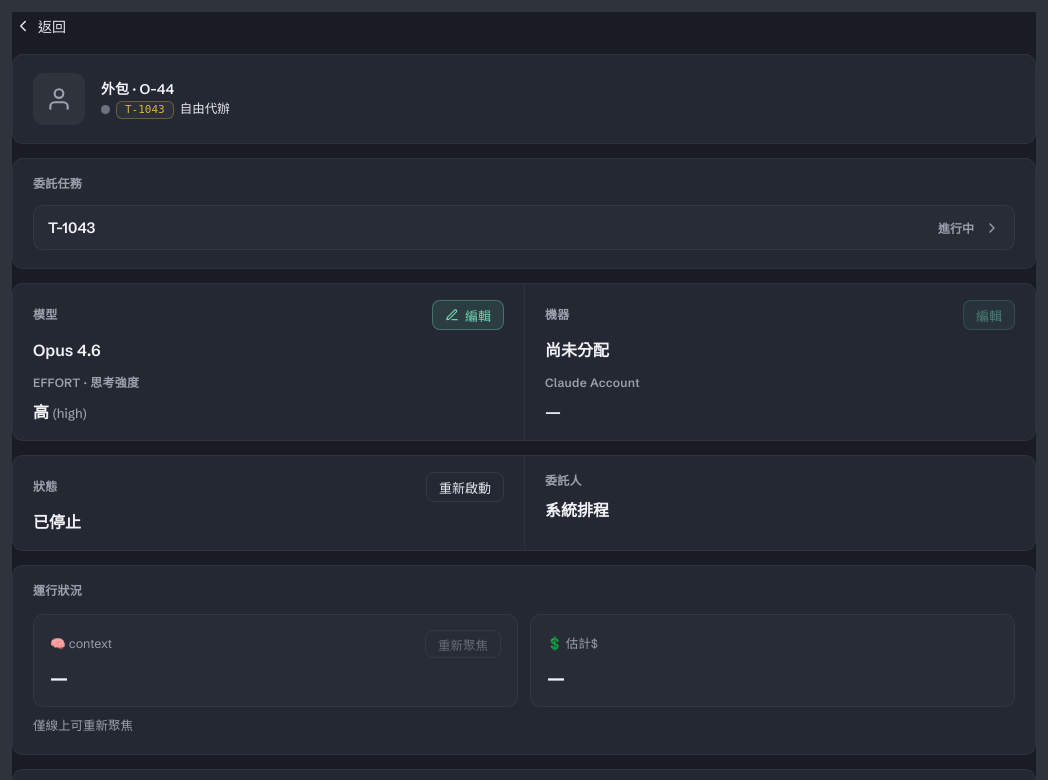
Scenario: WorkerDetailPanel — lifecycle ops (T-32e1/T-f190) › a stopped worker shows 已停止 and restart flips it back to a live state
Expected: the text with test id "worker-detail-status" reads "已停止", [33, 512, 81, 532]
Click the button with test id "worker-detail-stop-toggle".
click(465, 487)  # box [426, 472, 504, 502]
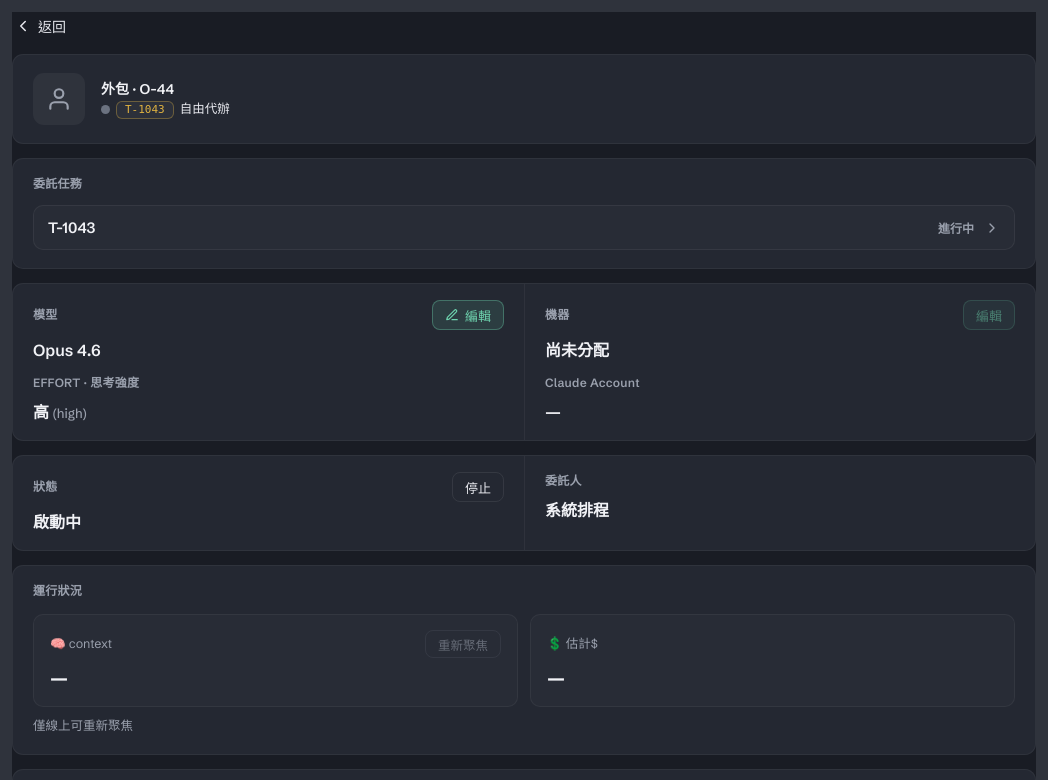
Expected: the text with test id "worker-detail-status" reads "啟動中", [33, 512, 81, 532]
